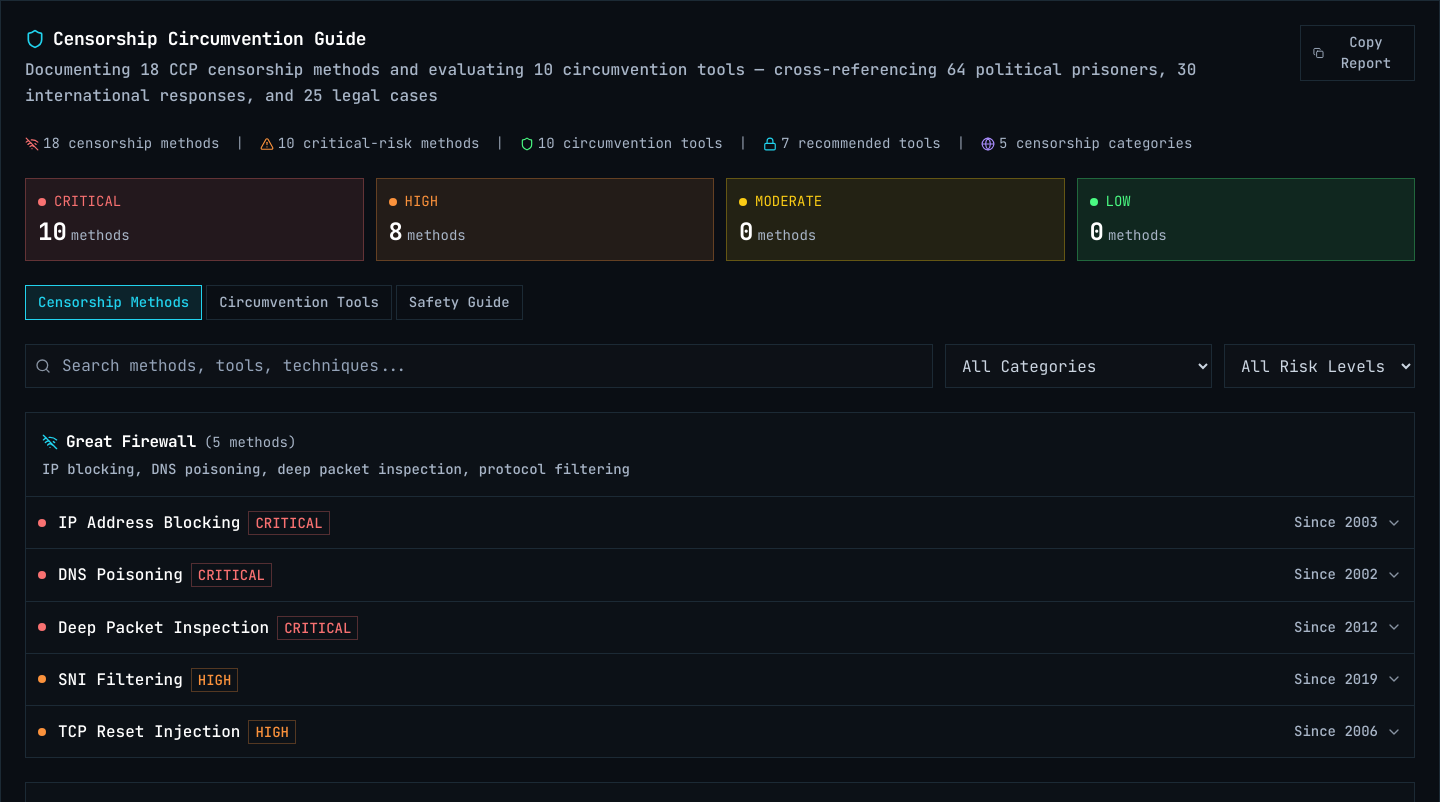
Test case: CensorshipCircumventionGuide › search filters method list
In the field with placeholder "Search methods, tools, techniques...": [479, 366] box [25,344,933,388], type "xyznonexistent"
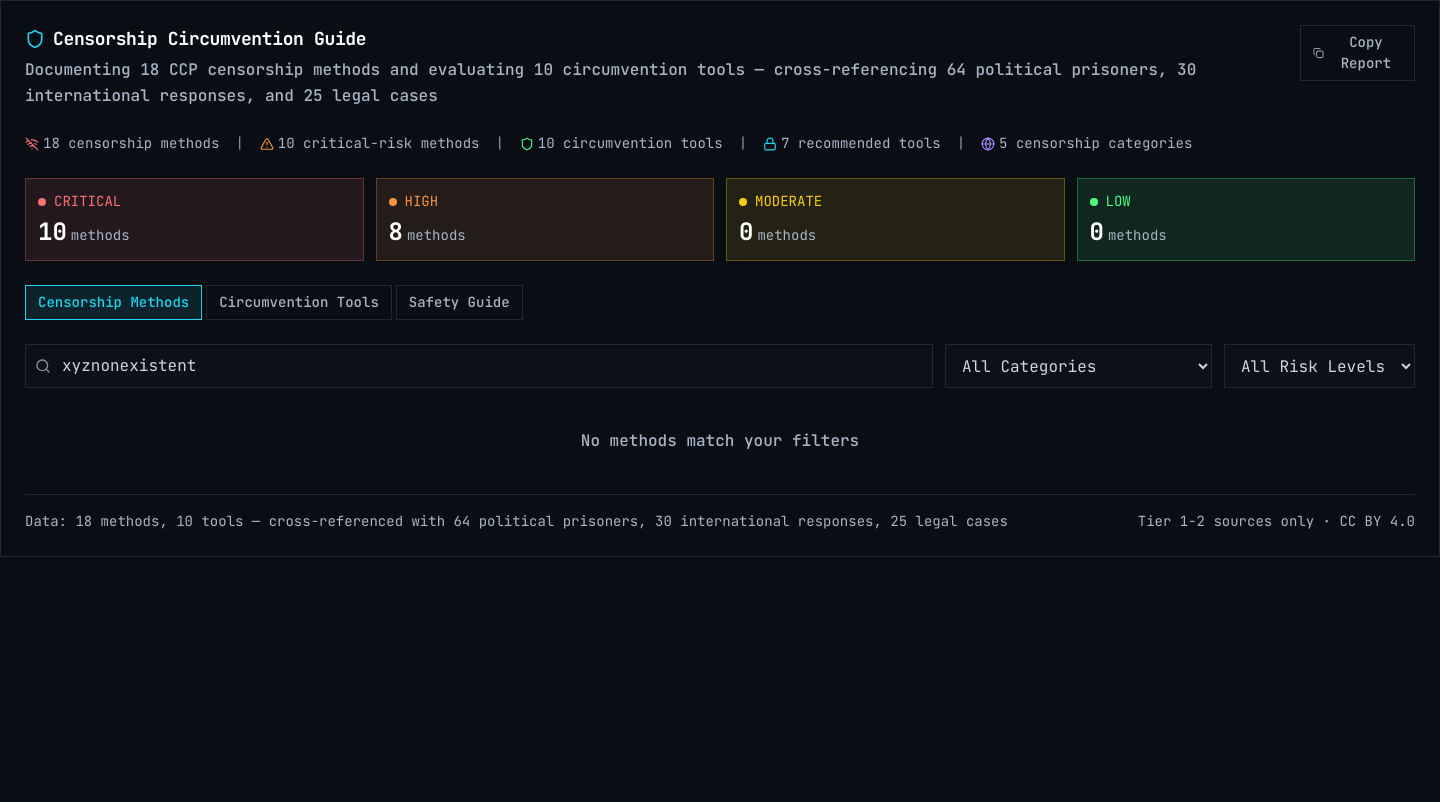
Expected: the text "No methods match your filters" is shown, [581,430,859,451]
